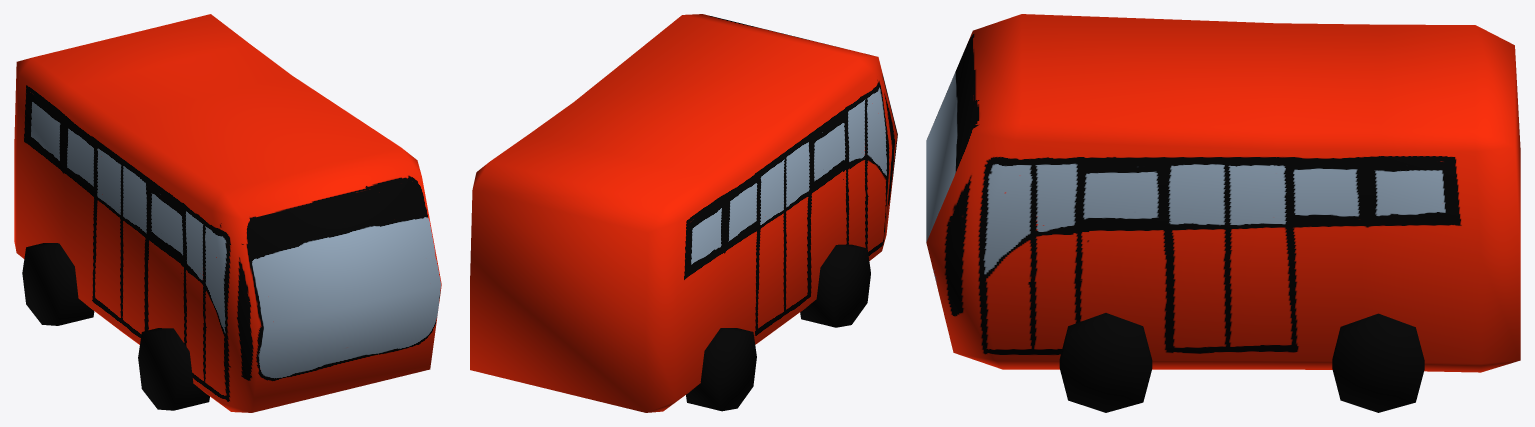
File: Vermelhinho.fbx
The picture shows the model from 3 angles, left to right: view 1: azimuth 30°, elevation 25°; view 2: azimuth 150°, elevation 25°; view 3: azimuth 270°, elevation 25°; orthographic projection. The views are drawn at different scales.
Parts seen in each view (by area): view 1: Bus, RodaFrente.001, RodaFrente; view 2: Bus, RodaFrente.001, RodaFrente; view 3: Bus, RodaFrente, RodaFrente.001.
Boxes of the visible parts, left/top/right/bottom form: Bus: left=14, top=14, right=441, bottom=412; RodaFrente.001: left=22, top=243, right=94, bottom=325; RodaFrente: left=138, top=328, right=209, bottom=410; Bus: left=470, top=14, right=897, bottom=412; RodaFrente.001: left=686, top=328, right=756, bottom=411; RodaFrente: left=800, top=244, right=870, bottom=327; Bus: left=926, top=14, right=1520, bottom=372; RodaFrente: left=1059, top=313, right=1152, bottom=412; RodaFrente.001: left=1332, top=313, right=1424, bottom=412.
Size of the model in its own units: 420 by 402 by 774.
1 material, 1 textured.
